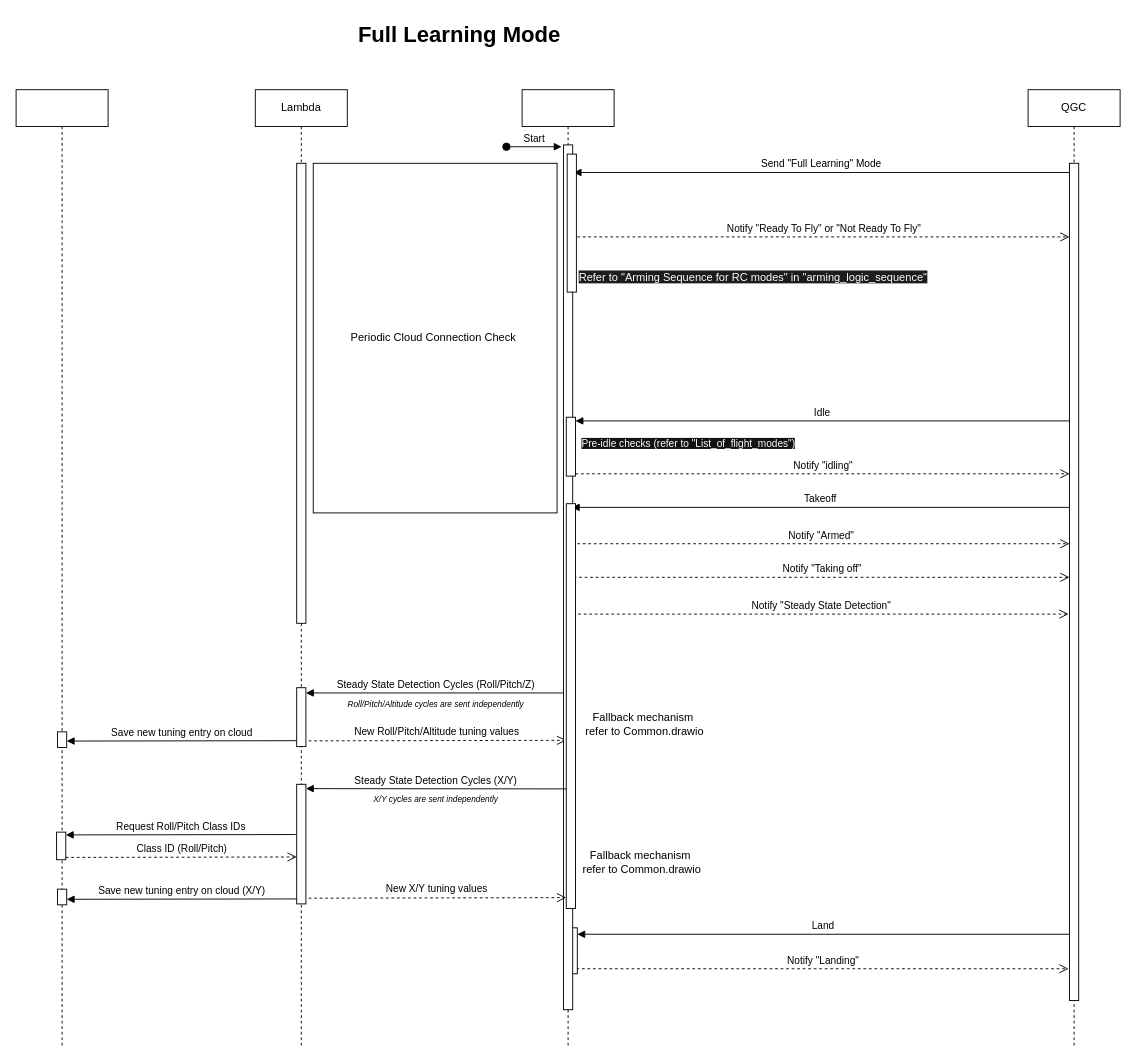
The diagram is 1136 pixels wide and 1063 high, and some of its shapes have lost their labels. The box of each missing label's shape, as (x1, y1, x2, y2) in pixels:
DynamoDB: (15, 89, 108, 1046)
LeafFC: (521, 89, 614, 1046)
